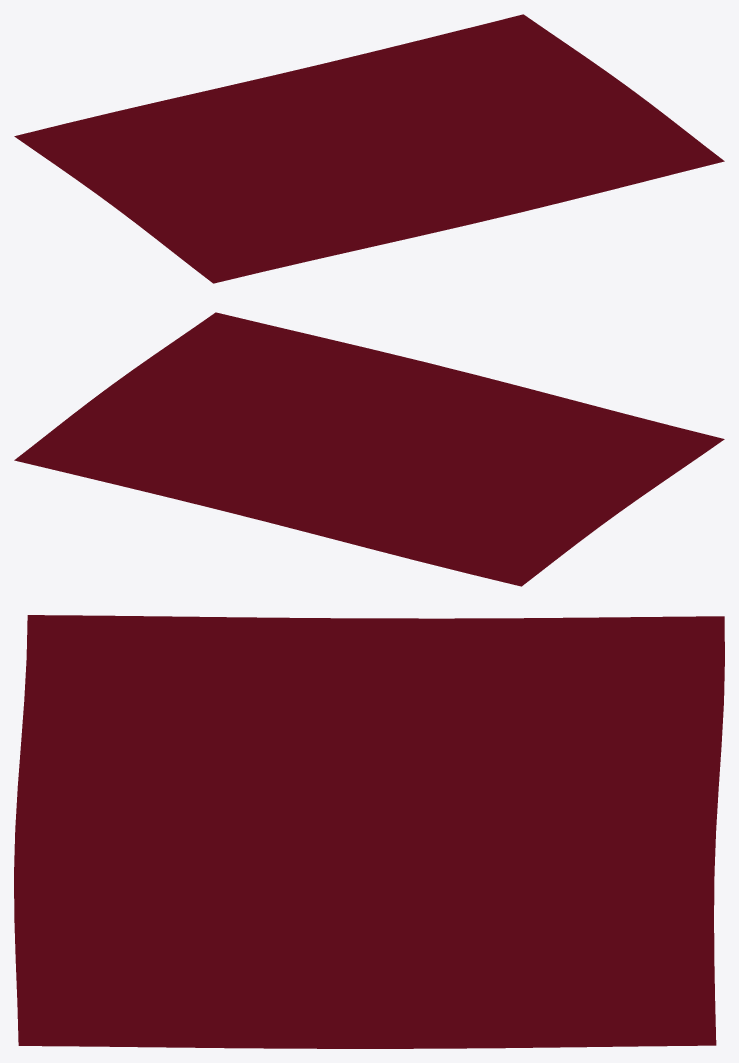
File: Carpet_Small 1.fbx
The picture shows the model from 3 angles, top to bottom: view 1: azimuth 30°, elevation 25°; view 2: azimuth 150°, elevation 25°; view 3: azimuth 270°, elevation 25°; orthographic projection. The views are drawn at different scales.
Visible parts, largest first — view 1: Carpet_Small; view 2: Carpet_Small; view 3: Carpet_Small.
Boxes of the visible parts, left/top/right/bottom form: Carpet_Small: left=14, top=14, right=724, bottom=283; Carpet_Small: left=14, top=312, right=724, bottom=586; Carpet_Small: left=14, top=615, right=724, bottom=1048.
Bounding box in the file's own units: 1.69 × 0 × 1.17.
